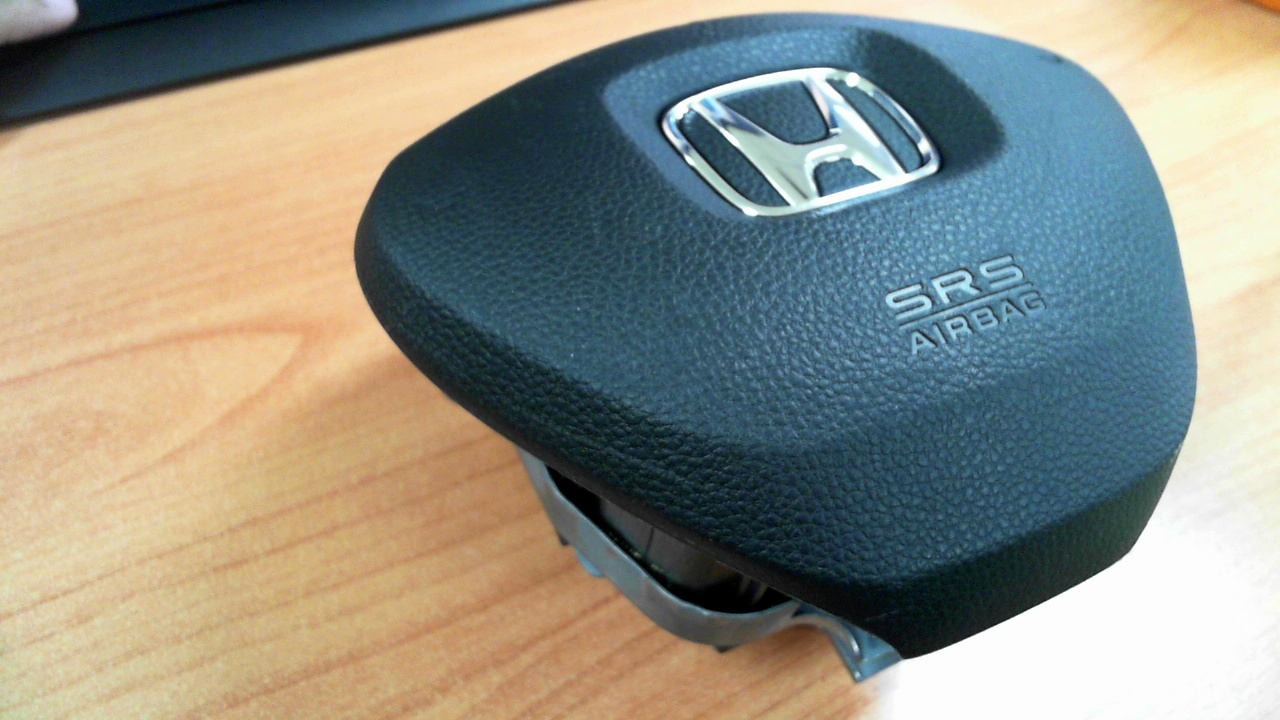Airbag: (351, 11, 1199, 684)
Honda: (662, 67, 940, 218)
